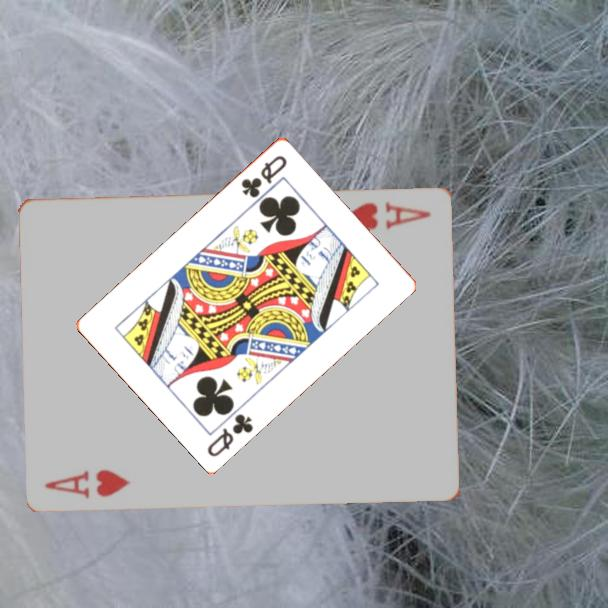c12: (203, 410, 256, 459), (238, 151, 290, 200)
h01: (341, 197, 434, 233), (42, 465, 134, 501)
